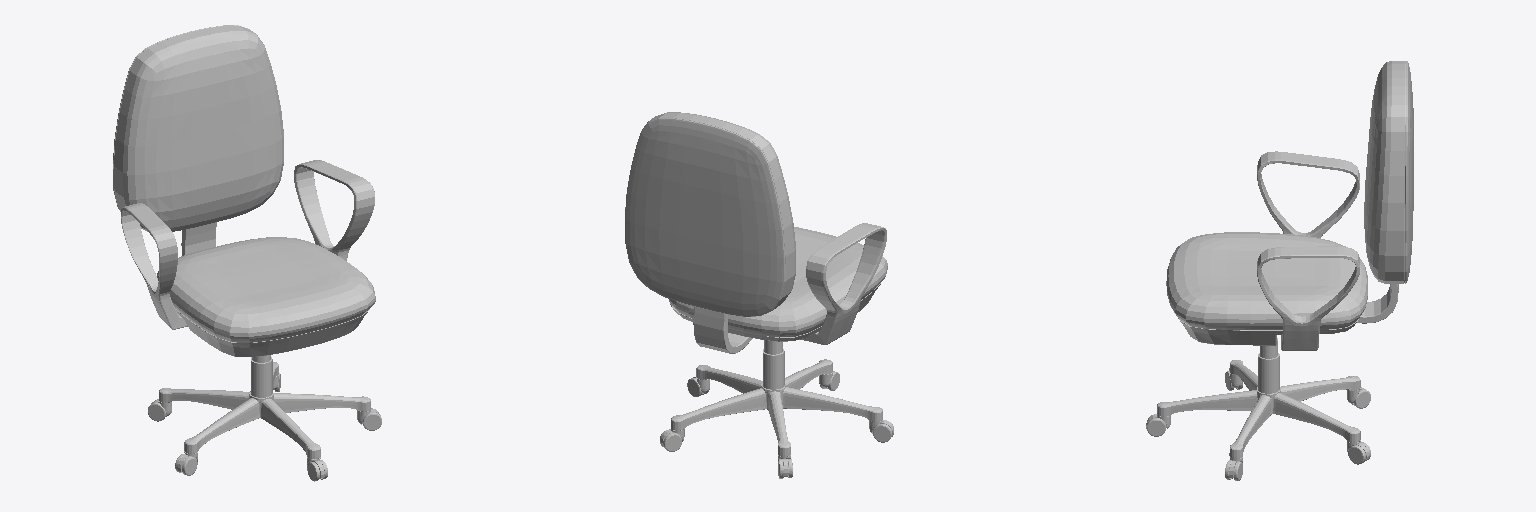
The picture shows the model from 3 angles: view 1: azimuth 30°, elevation 25°; view 2: azimuth 150°, elevation 25°; view 3: azimuth 270°, elevation 25°; orthographic projection.
Visible parts, largest first — view 1: Chair_; view 2: Chair_; view 3: Chair_.
Boxes of the visible parts, x1=… form: Chair_: x1=113, y1=25, x2=381, y2=481; Chair_: x1=625, y1=112, x2=893, y2=478; Chair_: x1=1146, y1=61, x2=1413, y2=480.
Bounding box in the file's own units: 1.28 × 2 × 1.36.